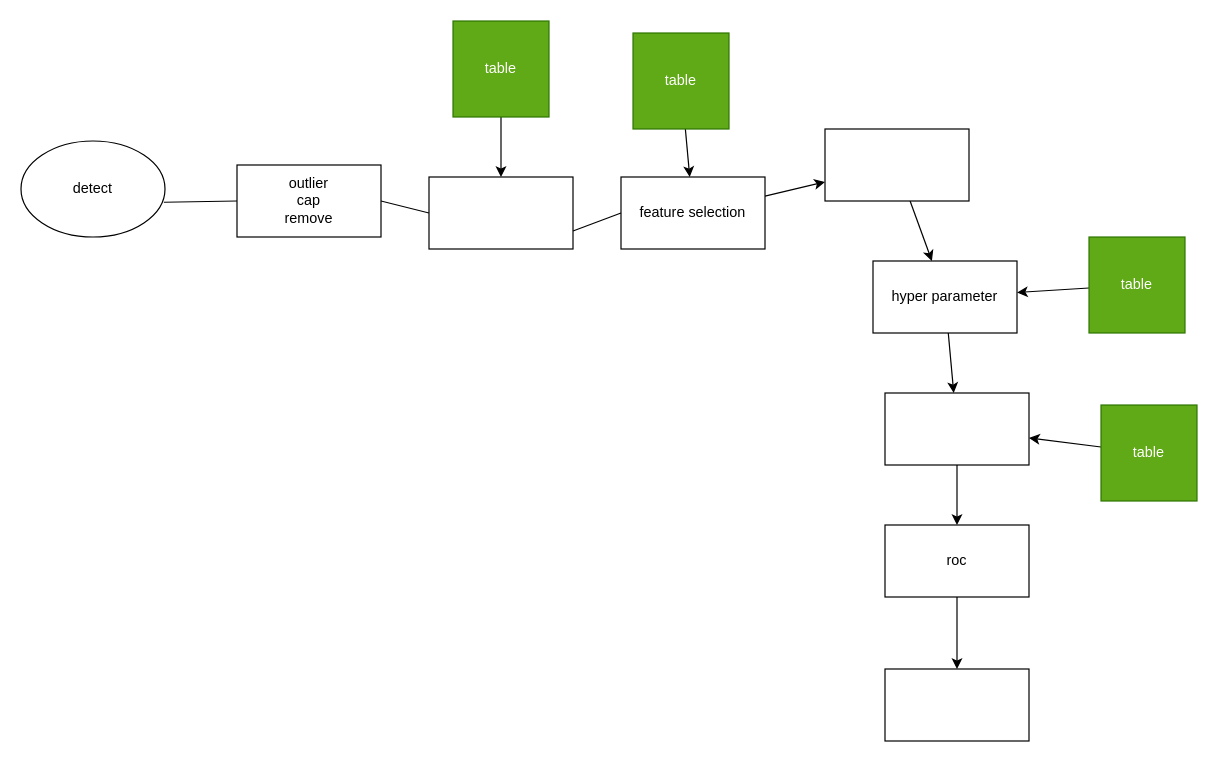
The diagram is 1218 pixels wide and 762 high, and some of its shapes have lost their labels. Each missing label, with the centre of its shape:
"apply model" belongs at (x=896, y=164).
"CV" belongs at (x=956, y=428).
"deploy" belongs at (x=956, y=704).
"smote ada smoteen ..." belongs at (x=500, y=212).
